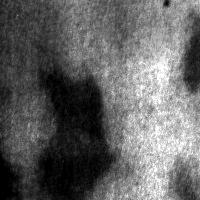patches: (44, 73, 106, 197), (0, 0, 69, 97), (98, 0, 188, 56), (2, 157, 62, 200), (165, 155, 199, 200), (183, 14, 200, 92), (1, 155, 22, 200)
